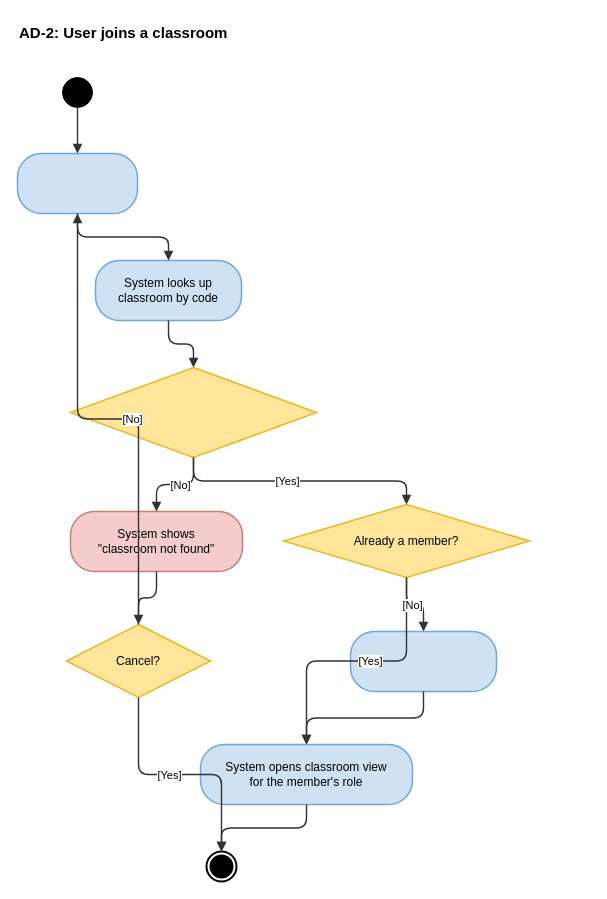
Some shapes in this 607 by 899 pixel diagram are drawn without their labels. The shapes that lost their labels are listed below. From the top down, each one's centre as x and y in pixels, then its label:
At pixel 77 183: "User enters join code".
At pixel 193 412: "Code matches an active classroom?".
At pixel 423 661: "System adds user with Student role".
